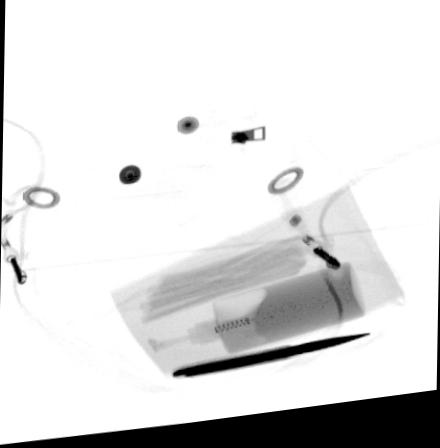Pliers: (168, 341, 370, 383)
